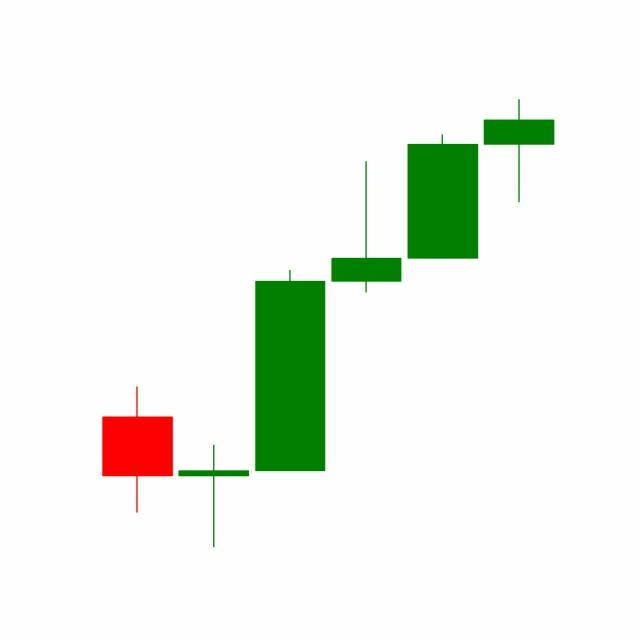Marubozu: (404, 134, 482, 260)
